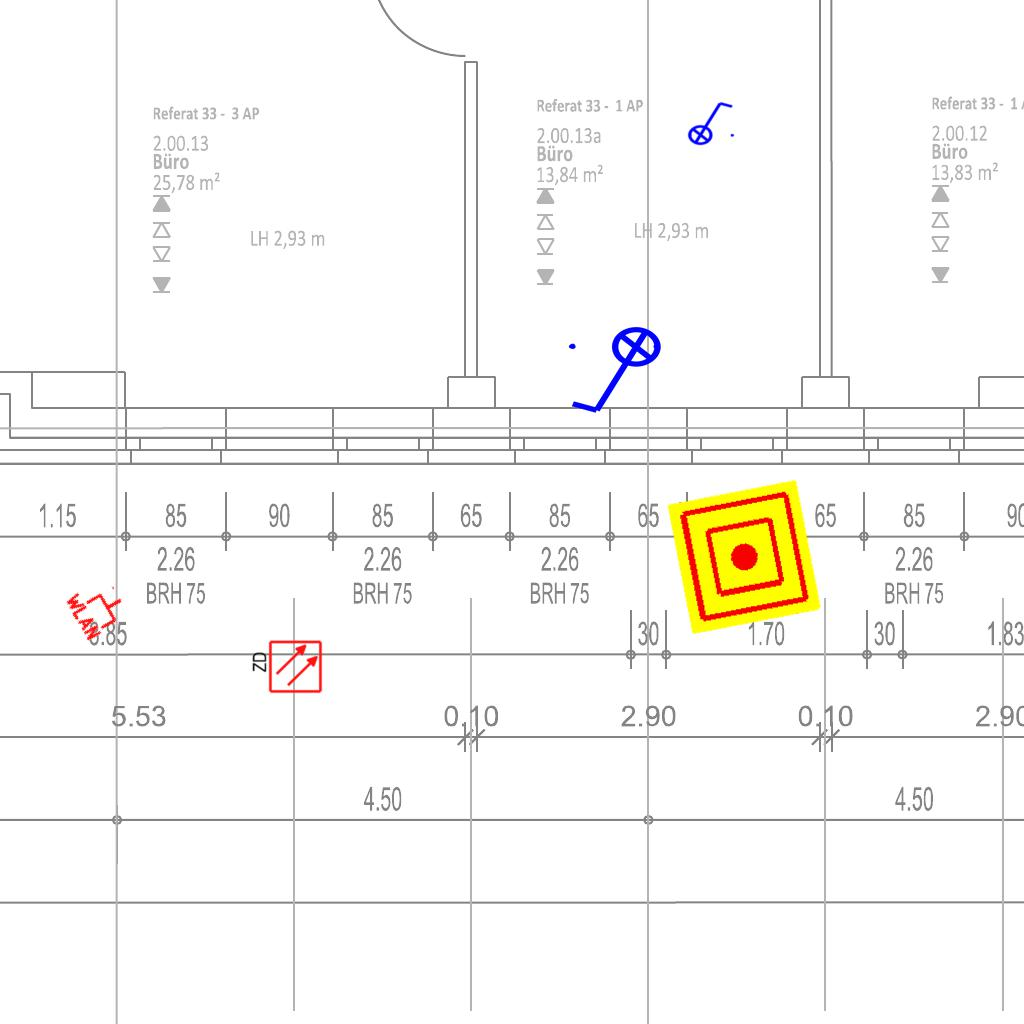Ausschalter_beleuchtet: (563, 325, 675, 421), (681, 98, 737, 146)
NAM-Nichtautomatischer_Melder: (666, 479, 822, 635)
WLAN: (62, 572, 134, 644)
ZD_Melder_in_Zwischendecke_mit_Revisionsoeffnung_mind_40_x_40_cm: (249, 639, 323, 696)
